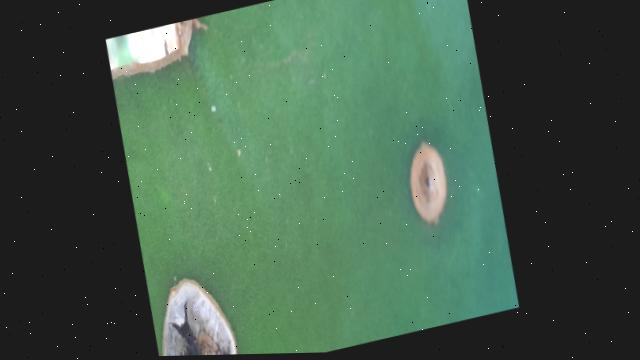stemcanker: (404, 139, 454, 230)
